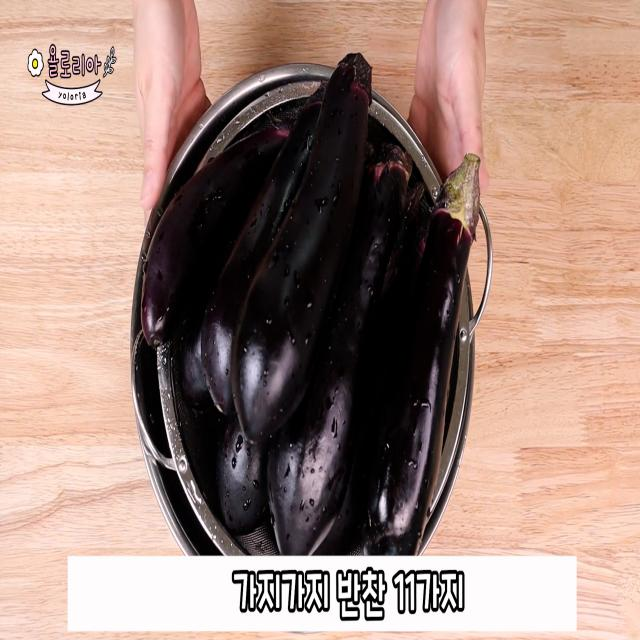eggplant: (330, 146, 497, 548), (245, 54, 359, 456)
